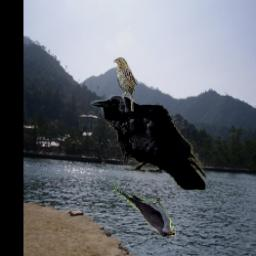Crow: (90, 96, 207, 192)
Cuckoo: (111, 184, 176, 238)
Sparrow: (113, 56, 137, 111)
